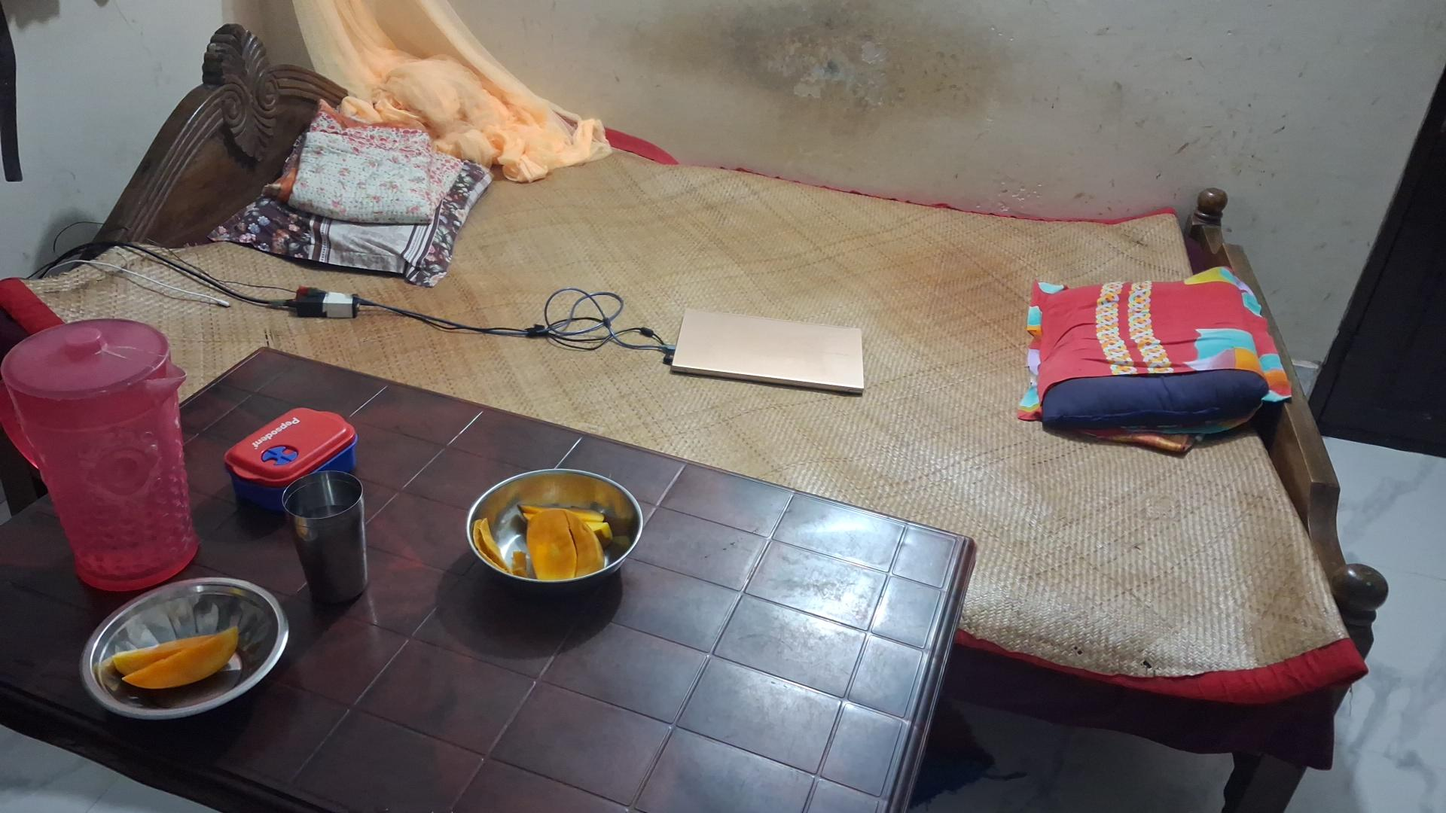Blanket: (280, 103, 440, 221)
Bowl: (76, 578, 292, 719), (466, 467, 643, 600)
Food: (121, 620, 236, 689), (506, 509, 603, 576)
Glass: (281, 469, 369, 607)
Jar: (224, 409, 364, 489)
Jug: (0, 328, 195, 588)
Laptop: (671, 302, 868, 403)
Pillow: (1025, 276, 1291, 453)
Table: (0, 337, 979, 813)
